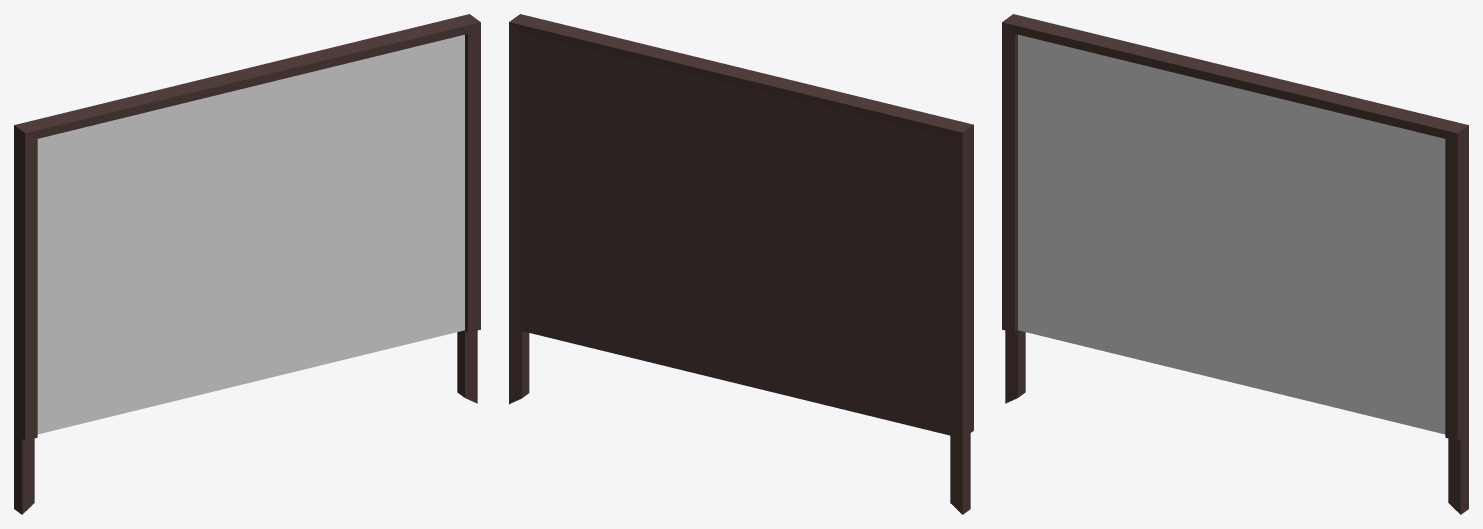
File: panel.fbx
3 views of the same model, side by side, from view 1: azimuth 30°, elevation 25°; view 2: azimuth 150°, elevation 25°; view 3: azimuth 330°, elevation 25° (orthographic).
Parts seen in each view (by area): view 1: Panel; view 2: Panel; view 3: Panel.
Part boxes in pixels (left/top/right/bottom): Panel: left=14, top=14, right=480, bottom=514; Panel: left=509, top=14, right=973, bottom=514; Panel: left=1002, top=14, right=1468, bottom=514.
Bounding box in the file's own units: 6.35 × 5.11 × 0.2703.
